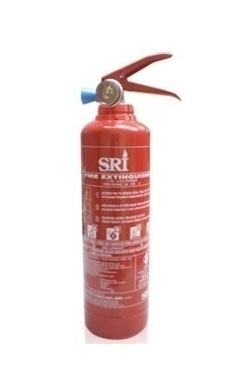fire_extinguisher: (79, 51, 181, 340)
